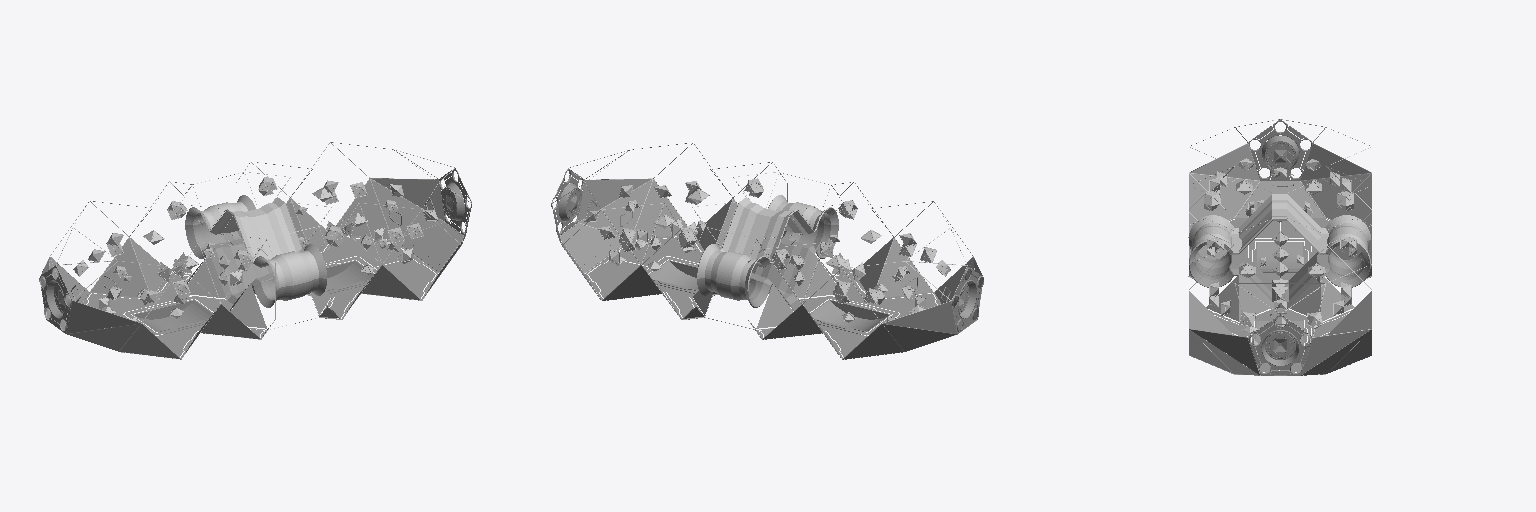
File: Full_Map.obj
The picture shows the model from 3 angles: view 1: azimuth 30°, elevation 25°; view 2: azimuth 150°, elevation 25°; view 3: azimuth 270°, elevation 25°; orthographic projection.
Visible parts, largest first — view 1: Outside_Mesh, Arena_1, Blocks_2; view 2: Outside_Mesh, Arena_1, Blocks_2; view 3: Outside_Mesh, Arena_1, Blocks_2.
Boxes of the visible parts, x1,y1,x2,y2 form: Outside_Mesh: [39, 168, 471, 358]; Arena_1: [40, 142, 471, 359]; Blocks_2: [73, 177, 437, 321]; Outside_Mesh: [551, 169, 983, 359]; Arena_1: [552, 143, 982, 359]; Blocks_2: [584, 178, 950, 322]; Outside_Mesh: [1188, 119, 1371, 375]; Arena_1: [1189, 119, 1371, 375]; Blocks_2: [1204, 158, 1356, 357].
Bounding box in the file's own units: 80.94 × 19.58 × 32.2.